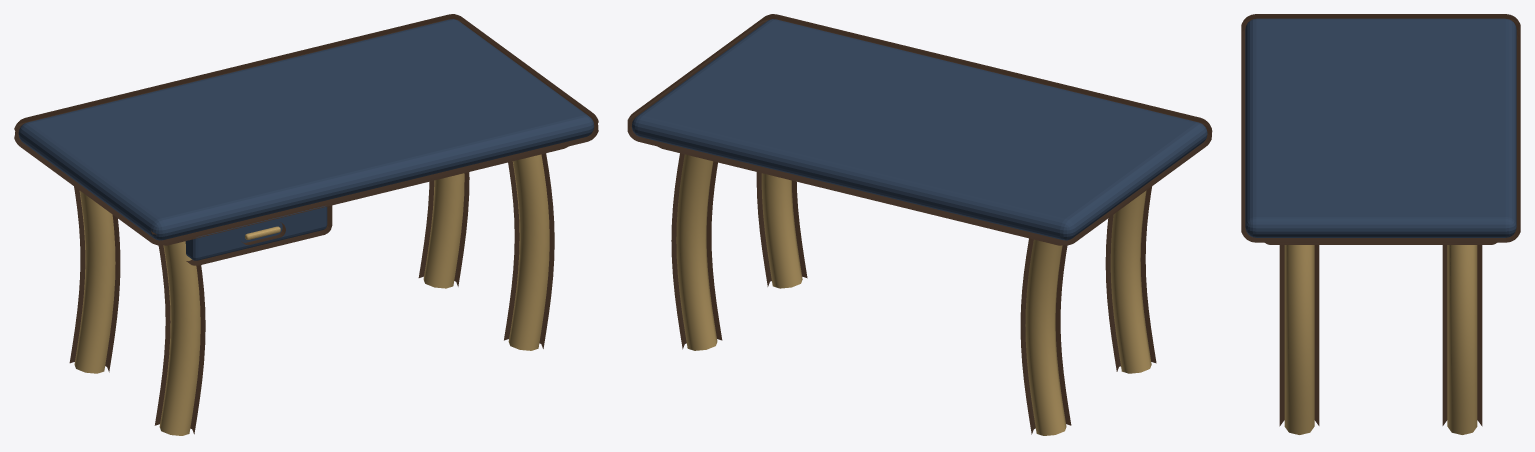
Rendered from observatory-desk.glb.
3 views of the same model, side by side, from view 1: azimuth 30°, elevation 25°; view 2: azimuth 150°, elevation 25°; view 3: azimuth 270°, elevation 25° (orthographic). The views are drawn at different scales.
Parts seen in each view (by area): view 1: observatory-desk, observatory-desk-outline; view 2: observatory-desk, observatory-desk-outline; view 3: observatory-desk, observatory-desk-outline.
Part boxes in pixels (<box>): observatory-desk: <box>18,19,594,435</box>; observatory-desk-outline: <box>14,14,598,434</box>; observatory-desk: <box>631,19,1207,435</box>; observatory-desk-outline: <box>627,14,1212,434</box>; observatory-desk: <box>1245,18,1516,434</box>; observatory-desk-outline: <box>1241,14,1520,426</box>.
Bounding box in the file's own units: 1.83 × 0.953 × 1.03.
